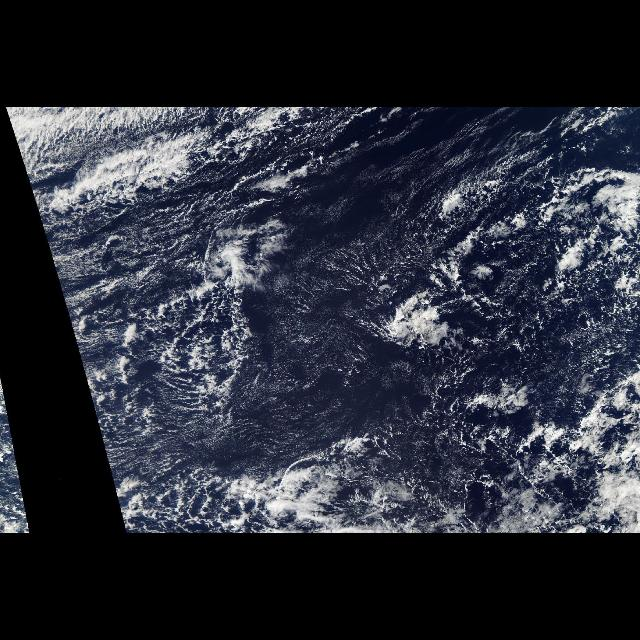Gravel: (135, 161, 640, 533), (37, 178, 269, 464)
Sugar: (45, 134, 389, 460)
